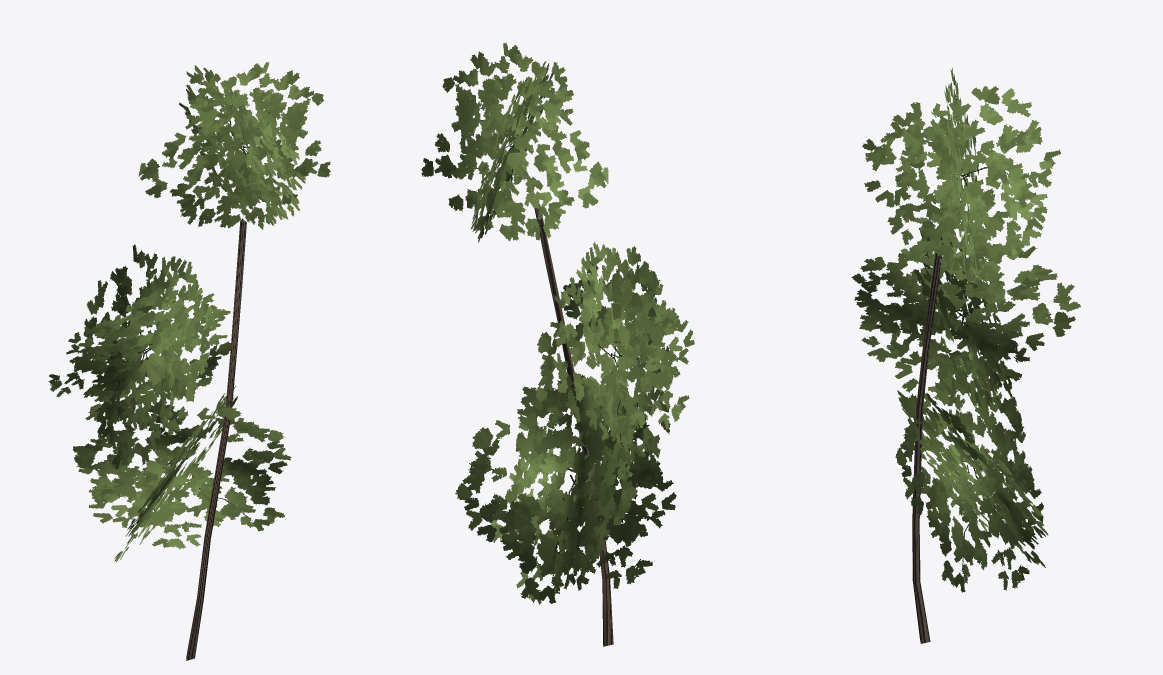
Rendered from seedling-c.lod1.glb.
3 renders of one model, left to right at view 1: azimuth 30°, elevation 25°; view 2: azimuth 150°, elevation 25°; view 3: azimuth 270°, elevation 25°, orthographic. The views are drawn at different scales.
Visible parts, largest first — view 1: foliage, bark; view 2: foliage, bark; view 3: foliage, bark.
Part boxes in pixels (x1,y1,x2,y2): foliage: (48,62,330,562); bark: (186,218,246,660); foliage: (421,43,694,604); bark: (534,204,613,646); foliage: (851,67,1080,592); bark: (912,235,943,643).
Size of the model in its own units: 0.1868 by 0.35 by 0.1865.
2 materials, 2 textured.
